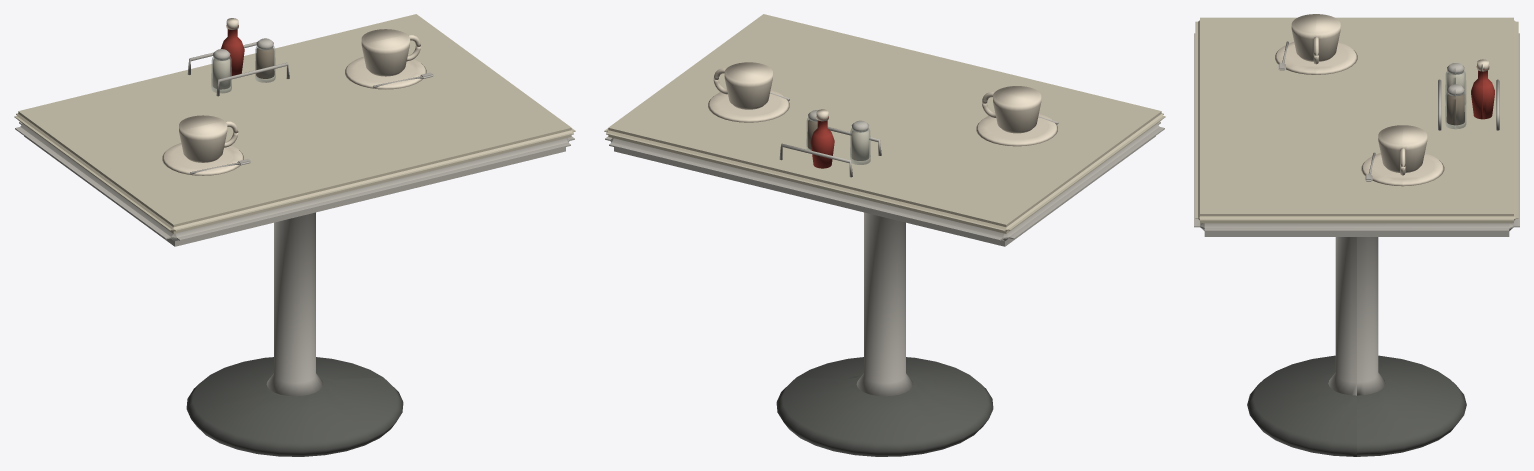
File: diner-table.glb
3 renders of one model, left to right at view 1: azimuth 30°, elevation 25°; view 2: azimuth 150°, elevation 25°; view 3: azimuth 270°, elevation 25°, orthographic.
Visible parts, largest first — view 1: Frame; view 2: Frame; view 3: Frame.
Part boxes in pixels (bbox=[...]): Frame: bbox=[14, 14, 575, 456]; Frame: bbox=[604, 14, 1165, 456]; Frame: bbox=[1194, 14, 1519, 456].
Bounding box in the file's own units: 1.12 × 0.913 × 0.768.
